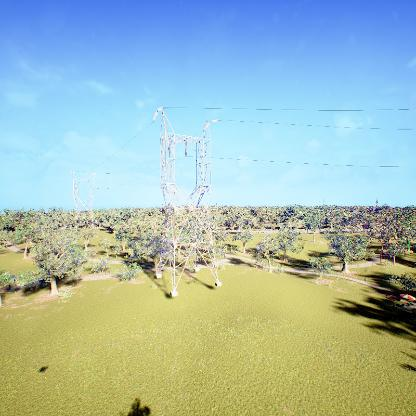tower: (148, 102, 228, 299)
